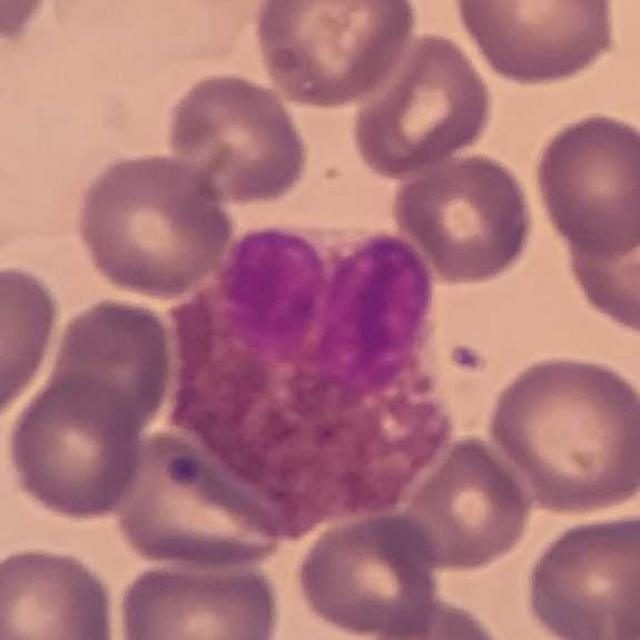Eosinophil: (159, 212, 455, 522)
RBC: (107, 428, 295, 574), (483, 348, 640, 518), (70, 148, 237, 302), (346, 27, 498, 181), (3, 368, 149, 524), (161, 68, 313, 208), (388, 148, 539, 287), (291, 506, 445, 640), (393, 432, 535, 575), (43, 292, 178, 440), (249, 0, 420, 111), (528, 107, 640, 259), (113, 546, 286, 640), (520, 506, 640, 640), (450, 0, 623, 89), (557, 188, 640, 339), (0, 541, 121, 640), (0, 258, 63, 427), (345, 594, 512, 640), (605, 548, 640, 639), (0, 0, 57, 49)
